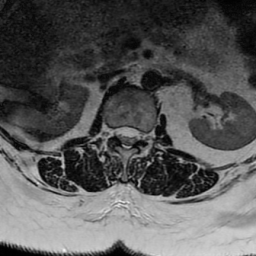CCS_normal: (122, 117, 131, 156)
LFS_normal: (139, 122, 147, 147)
LLS_normal: (131, 121, 139, 147)
RFS_normal: (107, 117, 114, 145)
RLS_normal: (114, 118, 122, 145)
